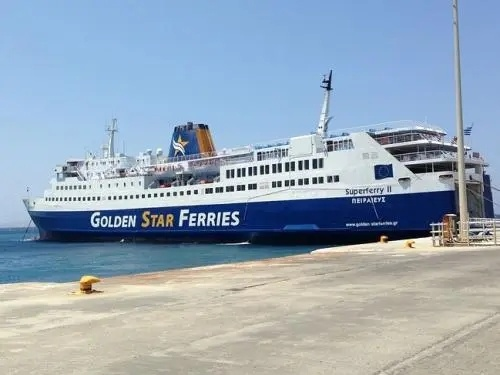Cargoship: (18, 68, 497, 244)
